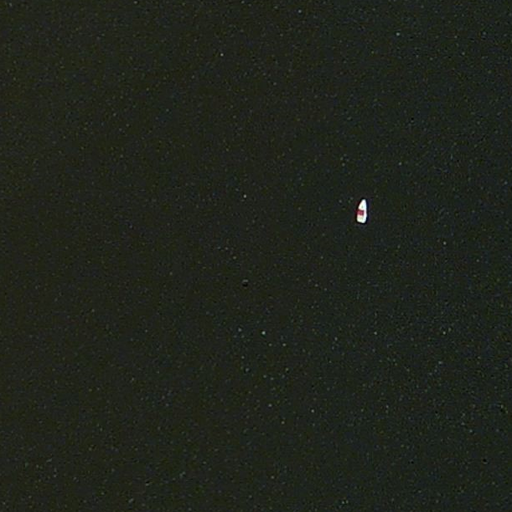ship: (354, 195, 370, 228)
